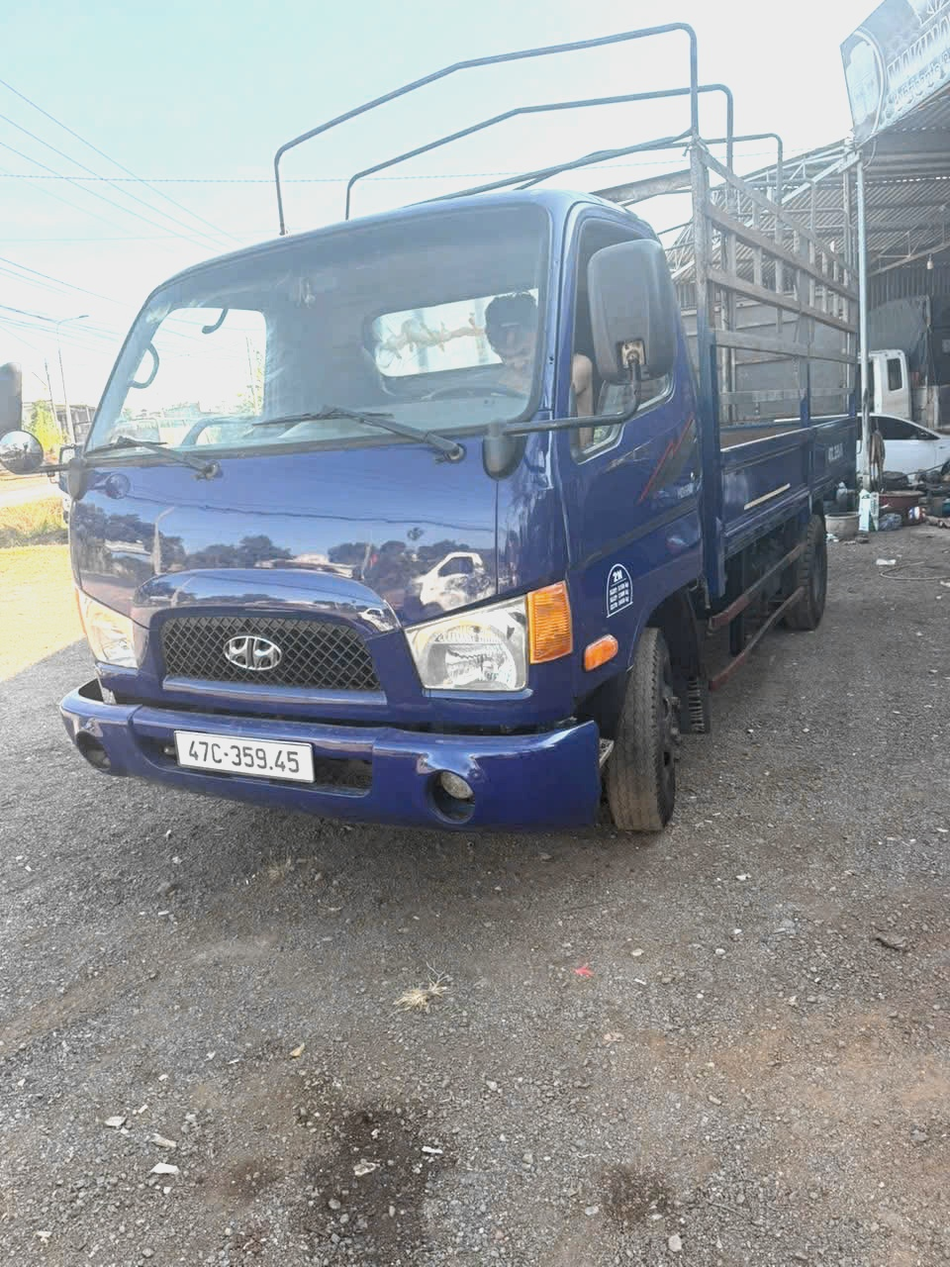Bien-so: (169, 735, 313, 791)
